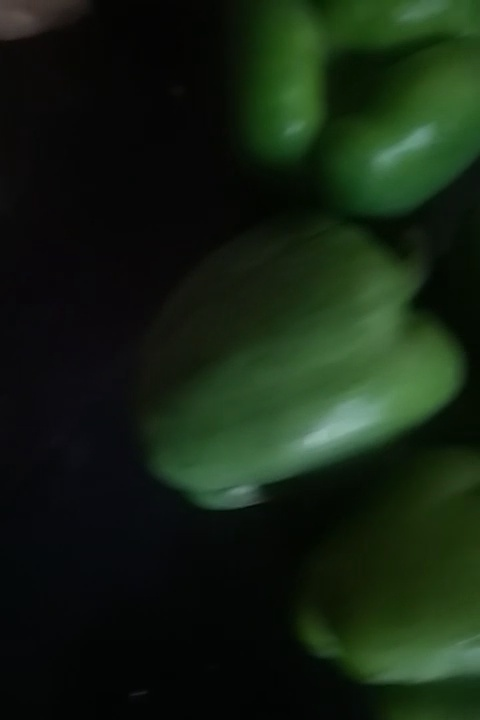capsicum: (127, 219, 456, 488), (223, 1, 478, 223), (299, 438, 480, 718)
